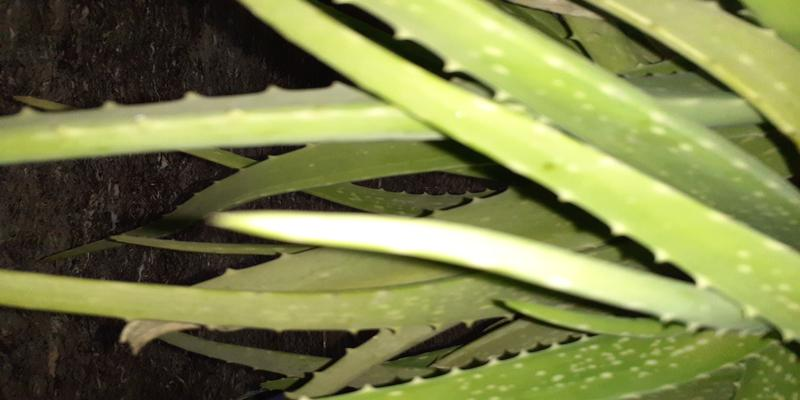Aloevera: (261, 17, 792, 369)
